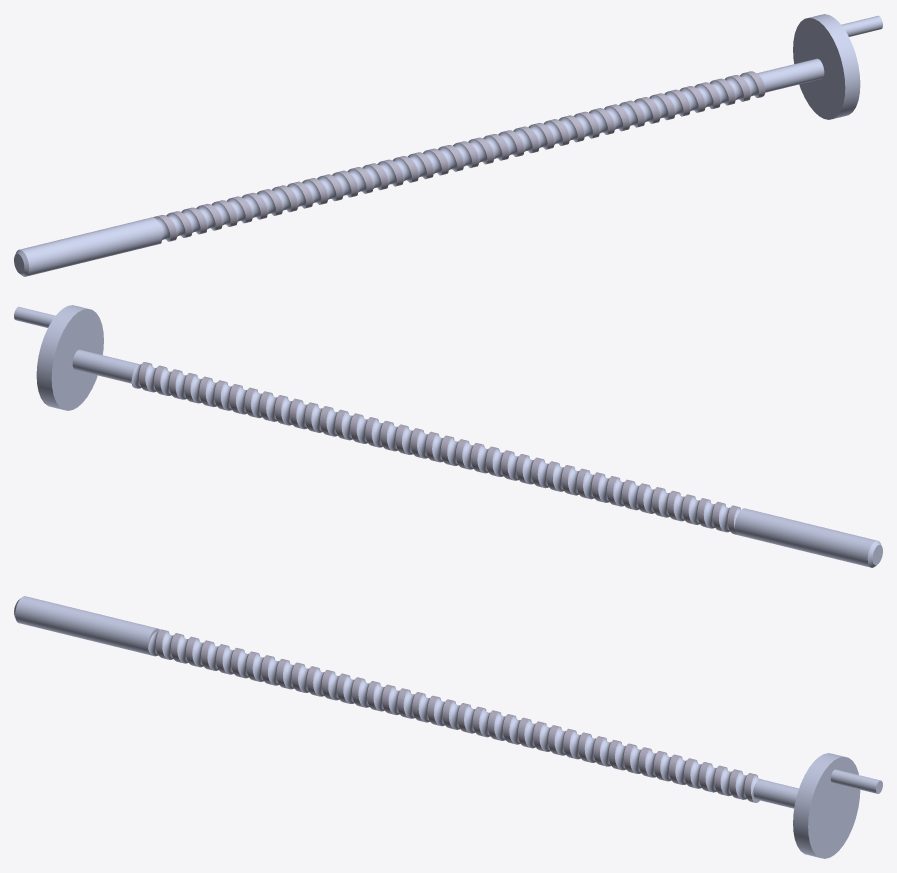
The model's file is lead_screw.obj.
3 views of the same model, one above another, from view 1: azimuth 30°, elevation 25°; view 2: azimuth 150°, elevation 25°; view 3: azimuth 330°, elevation 25° (orthographic).
Parts seen in each view (by area): view 1: NONE_DC_Shell, 2_DC_Shell; view 2: NONE_DC_Shell, 2_DC_Shell; view 3: NONE_DC_Shell, 2_DC_Shell.
Boxes of the visible parts, x1,y1,x2,y2 form: NONE_DC_Shell: (153,14,882,243); 2_DC_Shell: (14,217,161,276); NONE_DC_Shell: (14,305,740,534); 2_DC_Shell: (735,508,882,567); NONE_DC_Shell: (148,629,882,858); 2_DC_Shell: (14,596,159,655).
Size of the model in its own units: 285 by 30 by 30.
